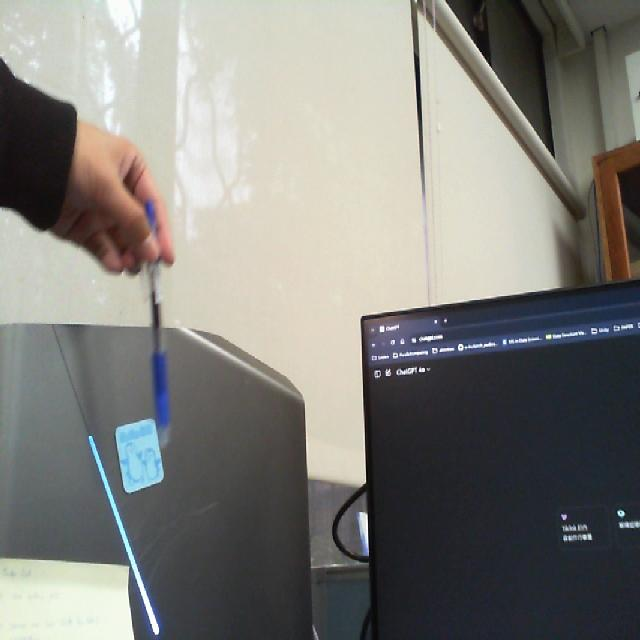Pen: (131, 193, 184, 459)
